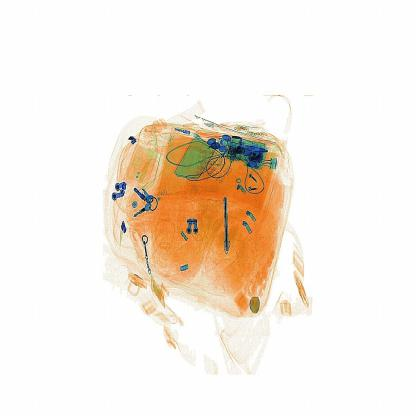knife: (219, 192, 232, 258)
